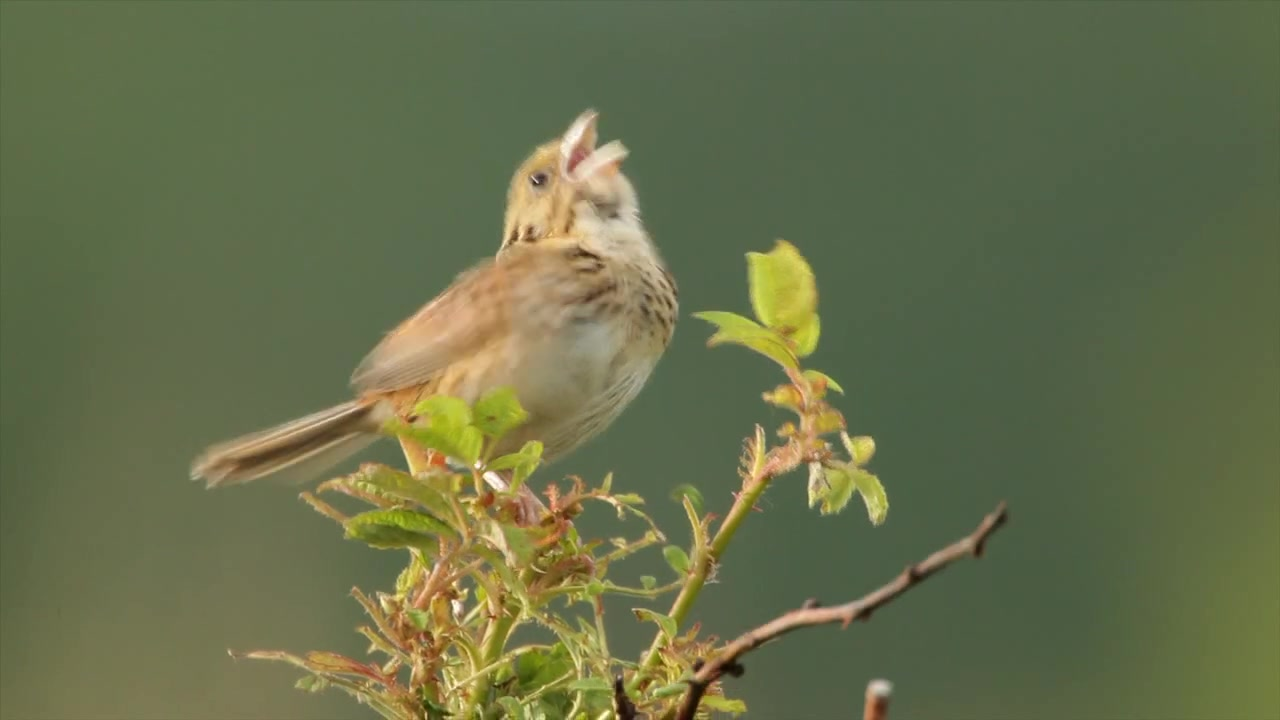bird: (189, 110, 682, 528)
